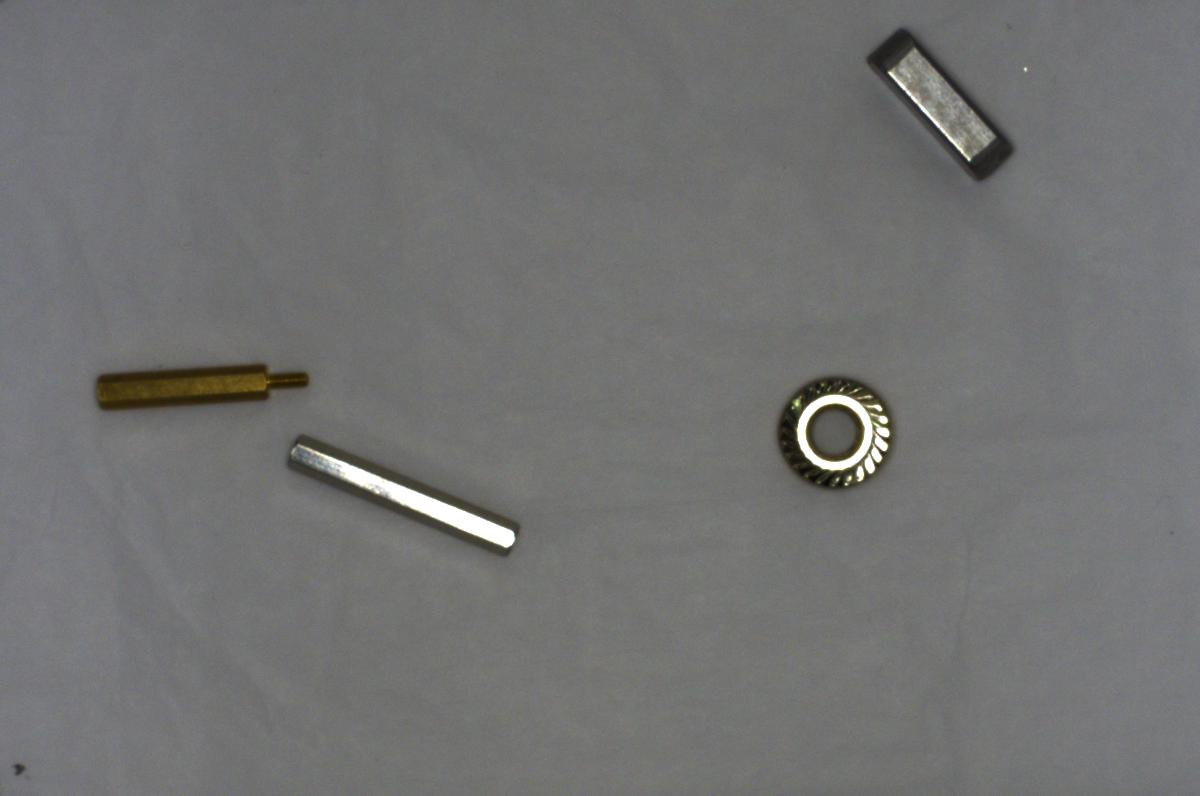Double hexagonal column: (274, 430, 519, 555)
Flange nut: (767, 368, 901, 499)
Hexagon pillar: (84, 354, 317, 418)
Keybar: (864, 21, 1015, 179)
